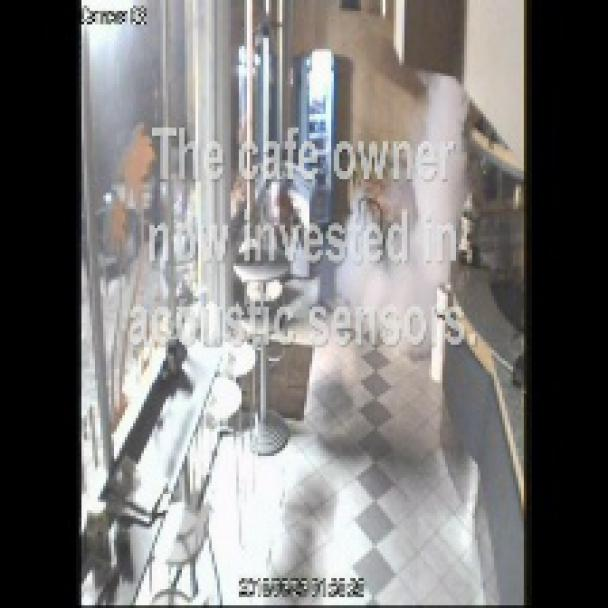smoke: (295, 74, 494, 408)
